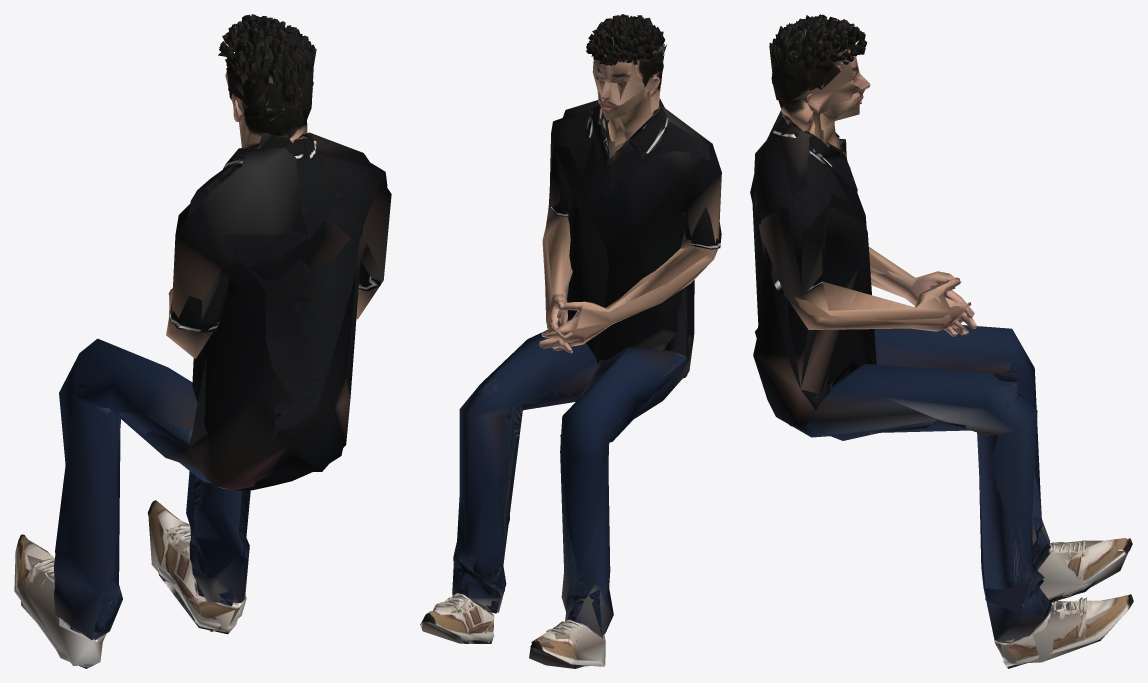
The model's file is persona-01.glb.
The picture shows the model from 3 angles, left to right: view 1: azimuth 30°, elevation 25°; view 2: azimuth 150°, elevation 25°; view 3: azimuth 270°, elevation 25°; orthographic projection. The views are drawn at different scales.
Parts seen in each view (by area): view 1: lejos, cerca; view 2: lejos, cerca; view 3: lejos, cerca.
Boxes of the visible parts, x1,y1,x2,y2 form: lejos: (18, 32, 391, 665); cerca: (14, 14, 387, 668); lejos: (423, 27, 721, 668); cerca: (420, 14, 721, 666); lejos: (750, 29, 1128, 663); cerca: (752, 14, 1133, 668).
Size of the model in its own units: 0.4483 by 1.43 by 0.8007.
2 materials, 1 textured.
